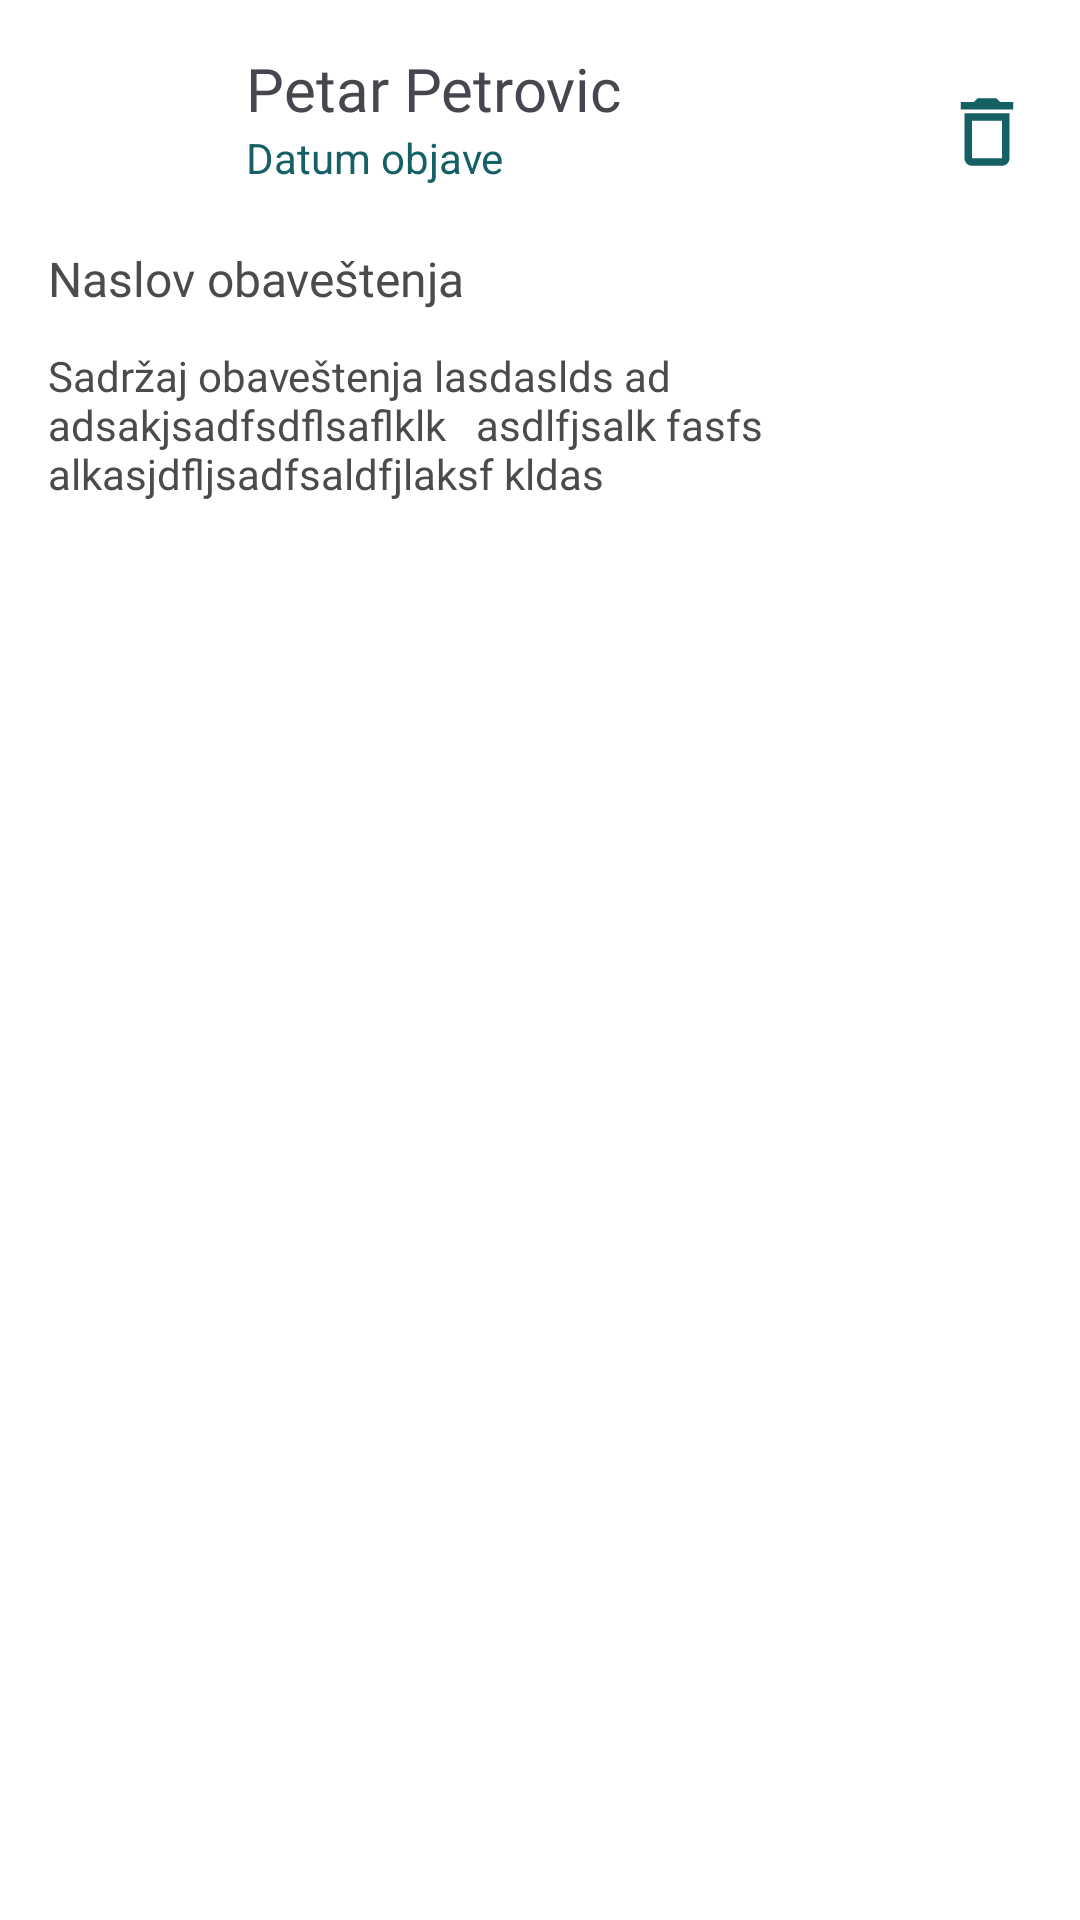

Screen size 1080*1920. Icon name, then its center in pixels as point (x, y):
delete: point (987, 132)
